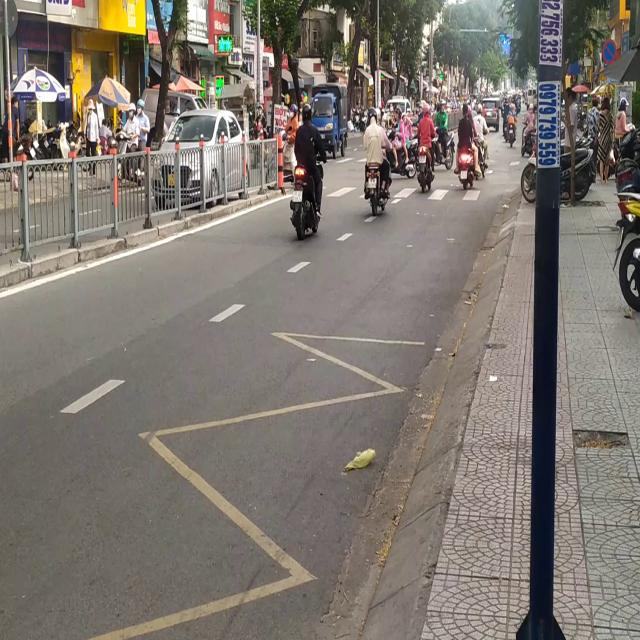bien_trang: (293, 191, 302, 202)
